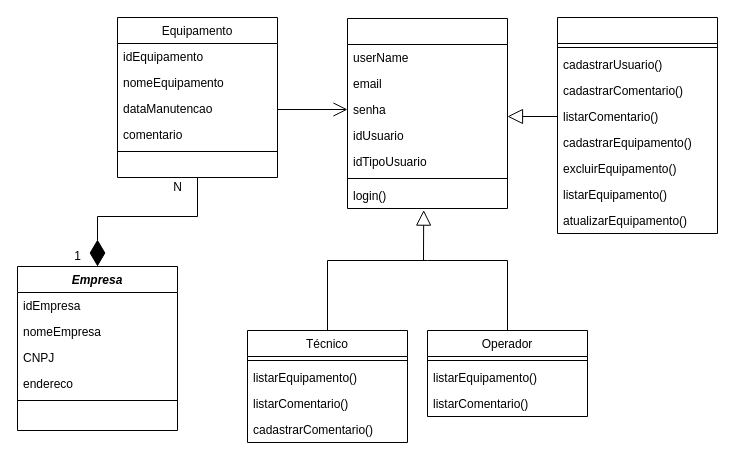
Some shapes in this 735 by 463 pixel diagram are drawn without their labels. The shapes that lost their labels are listed below. From the top down, each one's box as (x1, y1, x2, y2) in pixels, then its label:
(346, 18, 508, 208): Usuário
(556, 16, 718, 234): Administrador
